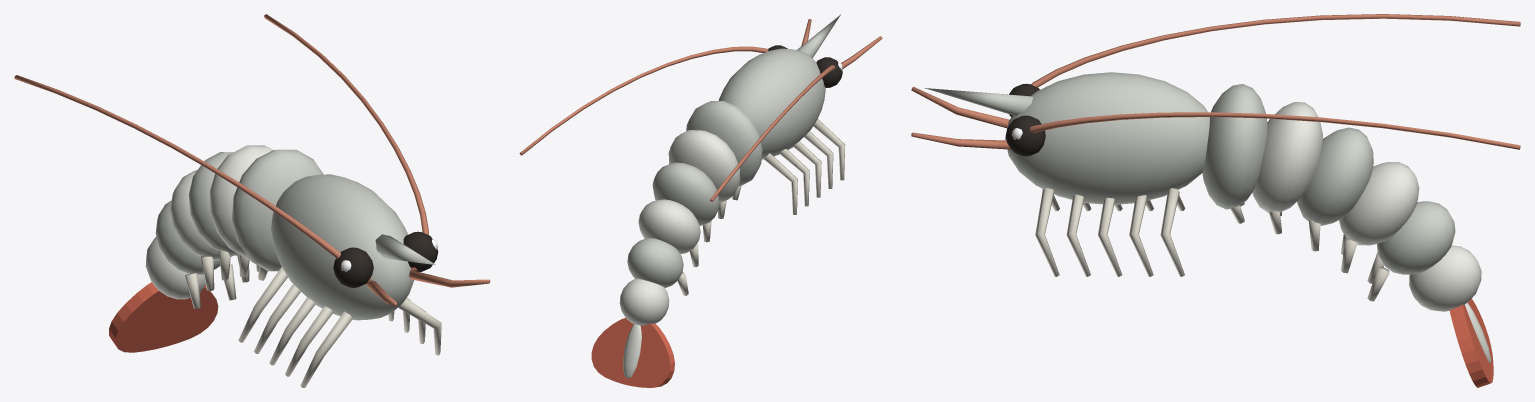
The model's file is sea-fleshy-prawn.glb.
3 renders of one model, left to right at view 1: azimuth 30°, elevation 25°; view 2: azimuth 150°, elevation 25°; view 3: azimuth 270°, elevation 25°, orthographic. The views are drawn at different scales.
Visible parts, largest first — view 1: shrimp; view 2: shrimp; view 3: shrimp.
Part boxes in pixels (x1,y1,x2,y2): shrimp: [14, 14, 490, 387]; shrimp: [519, 14, 882, 387]; shrimp: [911, 14, 1520, 387].
Bounding box in the file's own units: 0.1665 × 0.1916 × 0.3426.
